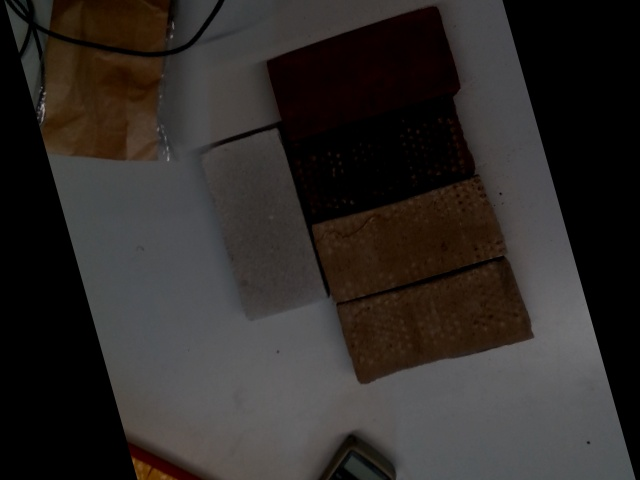brick: (335, 256, 532, 385), (310, 175, 507, 302), (197, 129, 323, 320), (267, 12, 459, 136), (285, 99, 474, 218)
